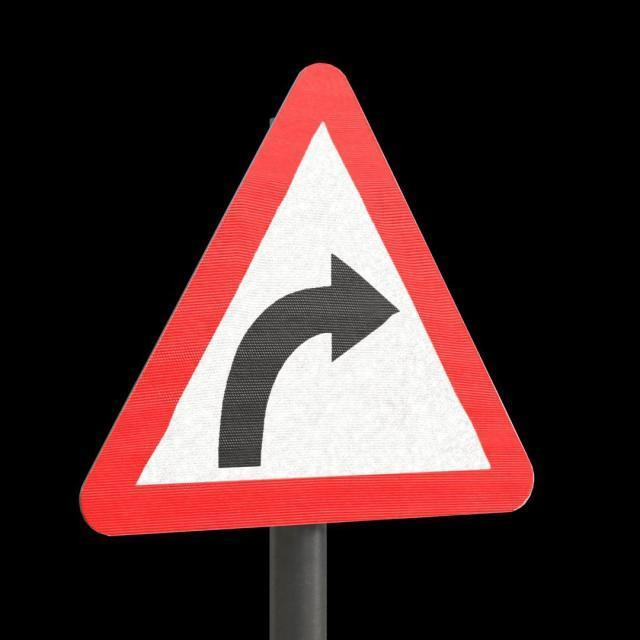right hand curve: (70, 52, 547, 546)
